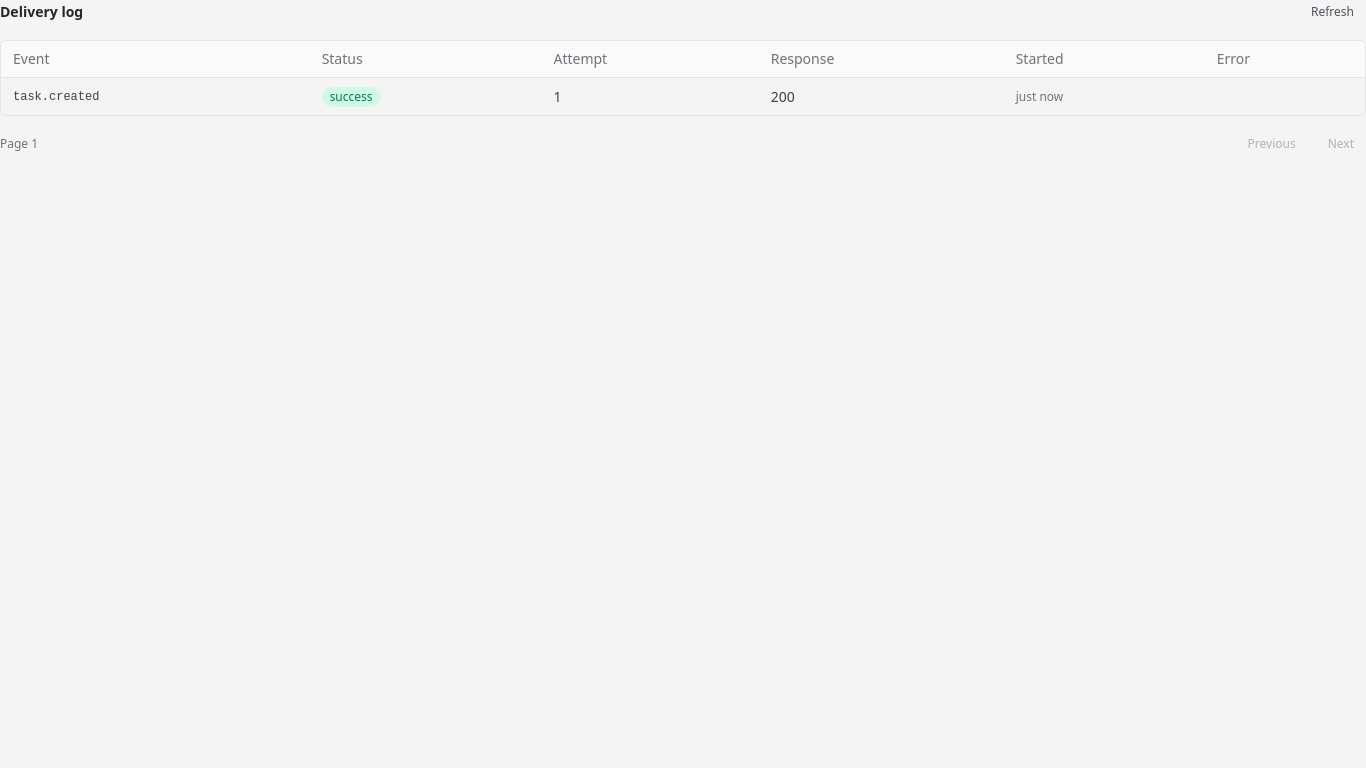
WebhookDeliveries pagination › opens the raw-body modal when a row is clicked
Step 1. Click the row with test id "webhook-delivery-row" → (56, 96), box [1,78,1365,115]
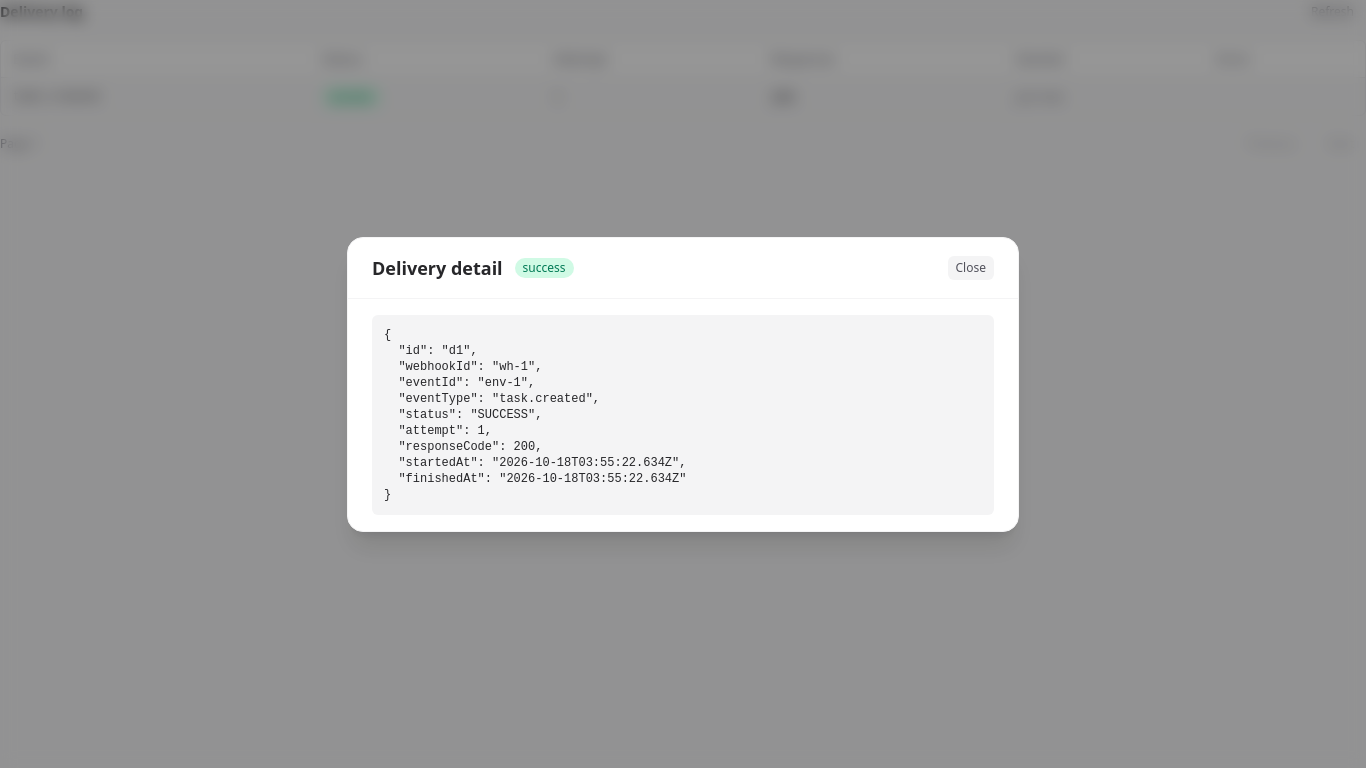
Expected: the element with test id "webhook-delivery-dialog" is shown
Expected: the text with test id "webhook-delivery-raw" shows "SUCCESS", [384,328,686,502]
Step 2. Click the button with test id "webhook-delivery-dialog-close" → (971, 268), box [948,256,994,280]
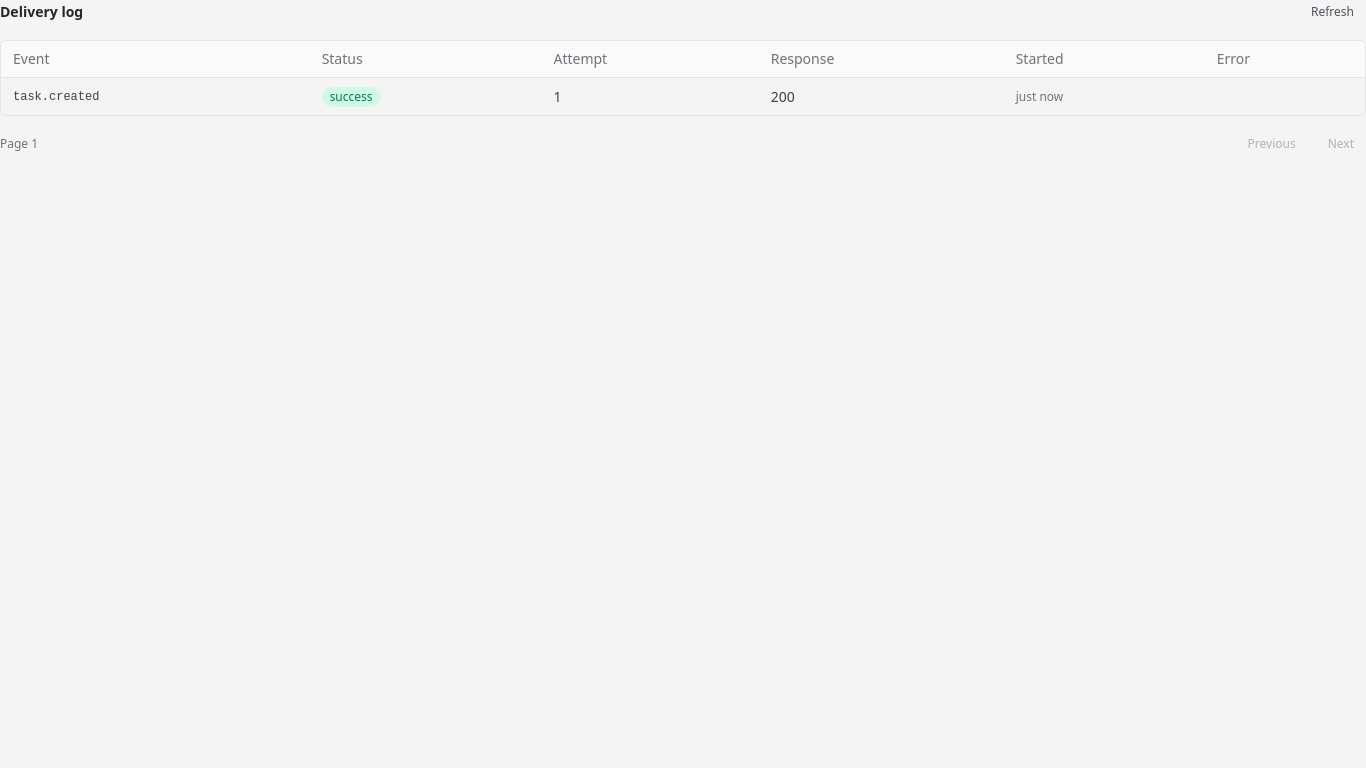
Expected: the element with test id "webhook-delivery-dialog" is gone
